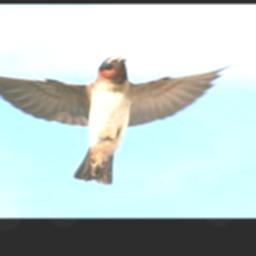Swallow: (0, 54, 239, 185)
